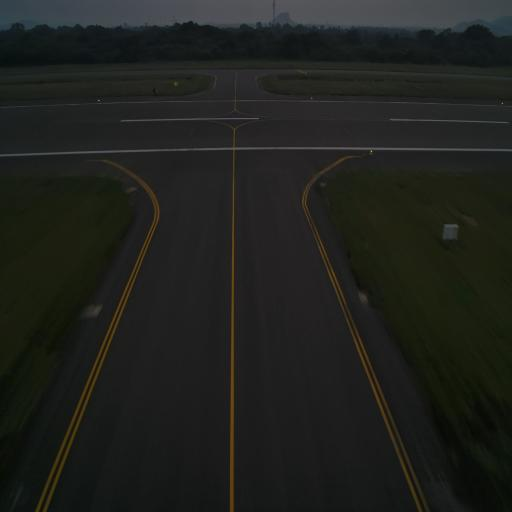on: (96, 95, 103, 107), (309, 94, 314, 102), (369, 148, 373, 154)
